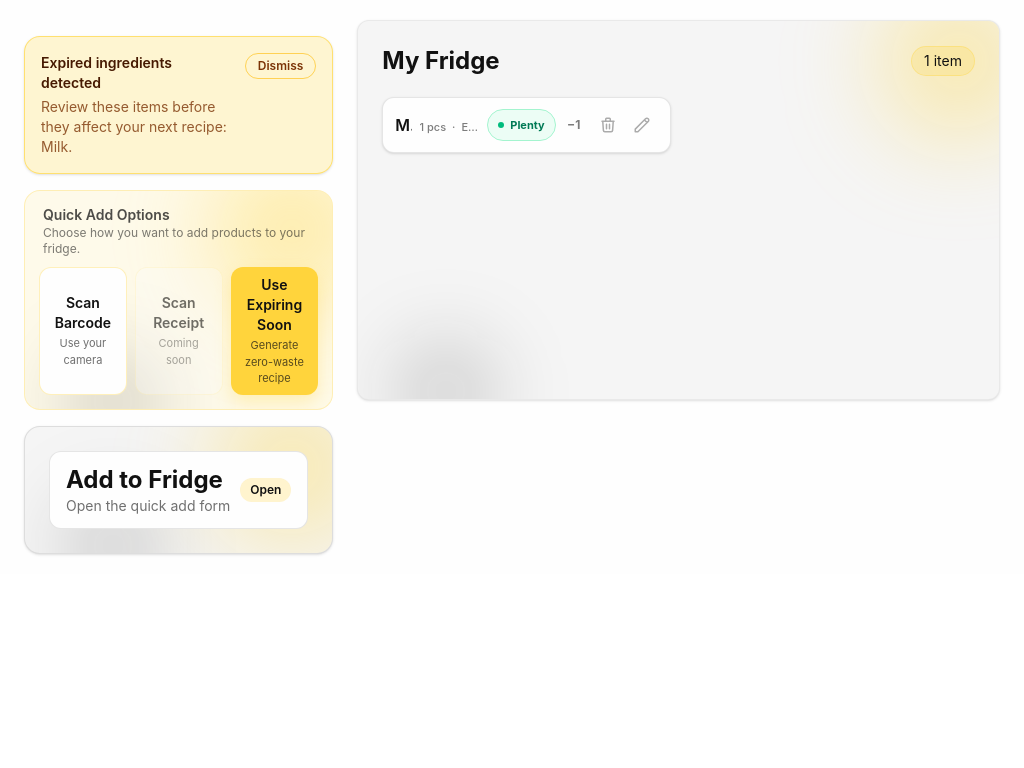
Test: Fridge expired banner › is dismissible and stays hidden for the same expired set
Check: the text "Expired ingredients detected" is shown, box [41, 54, 172, 91]
Step 1. Click the button "Dismiss" → {"x": 281, "y": 66}, box [245, 53, 316, 79]
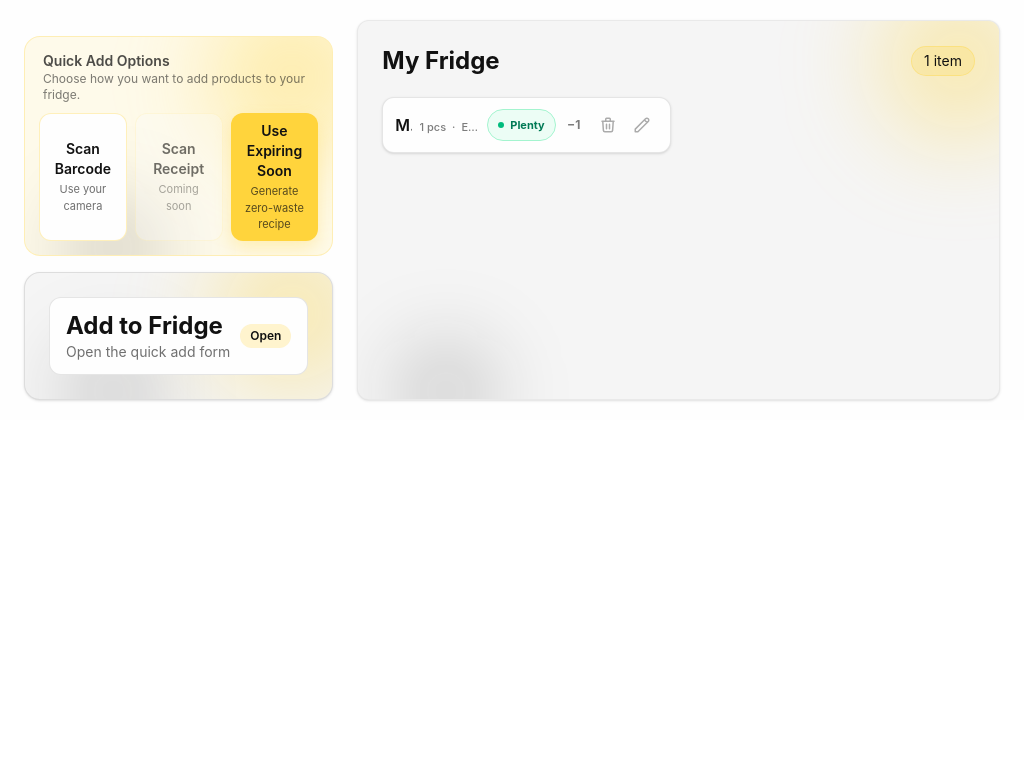
Check: the text "Expired ingredients detected" is gone
